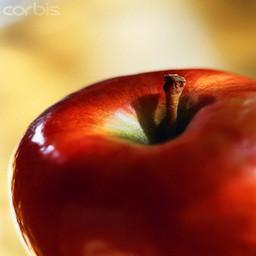apple: (7, 70, 253, 254)
